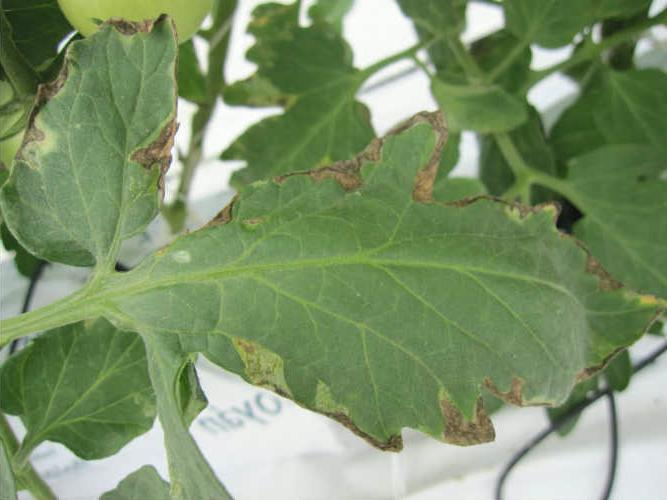Tomato leaf bacterial spot: (135, 112, 659, 455), (0, 11, 192, 290)
